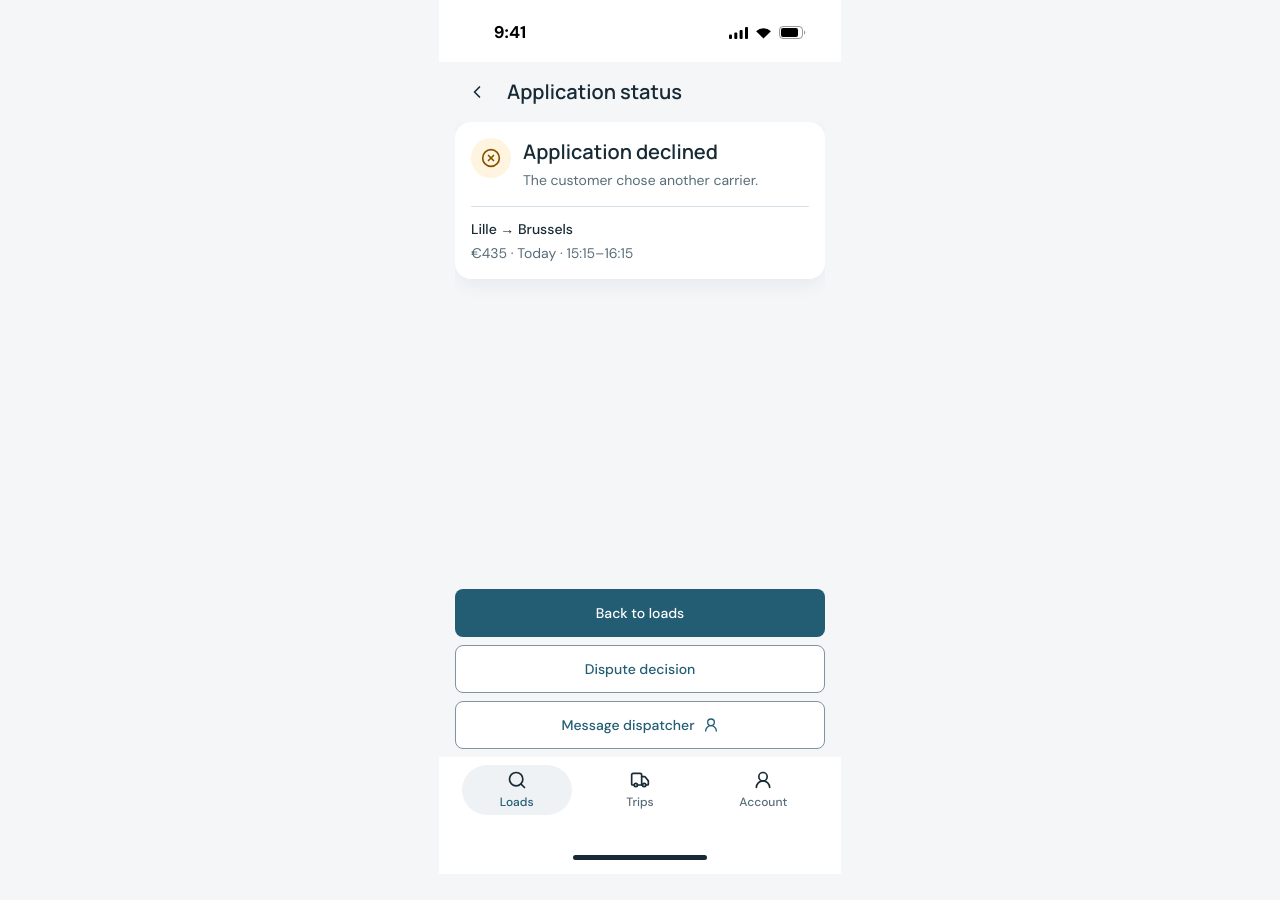
ApplicationTrackerView notices › sends a dispute through the sheet
Click the button "Dispute decision".
click(640, 669)  # box [455,645,825,693]
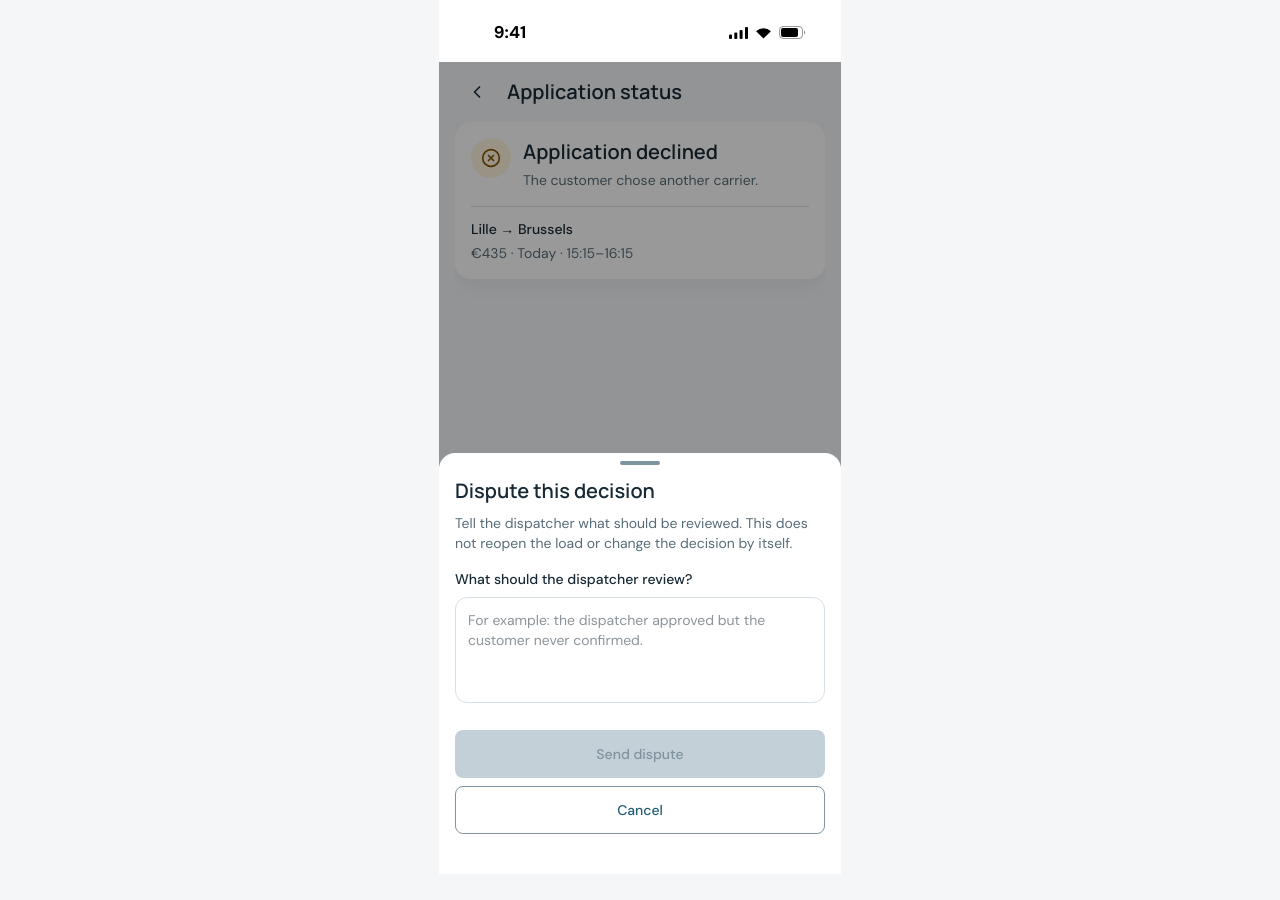
Check: the dialog named "Dispute decision" is shown, box [439,453,841,874]
Replace the text in the text box labelled "What should the dispatcher review?" with "The customer approved late." at (640,650), box [455,597,825,703]
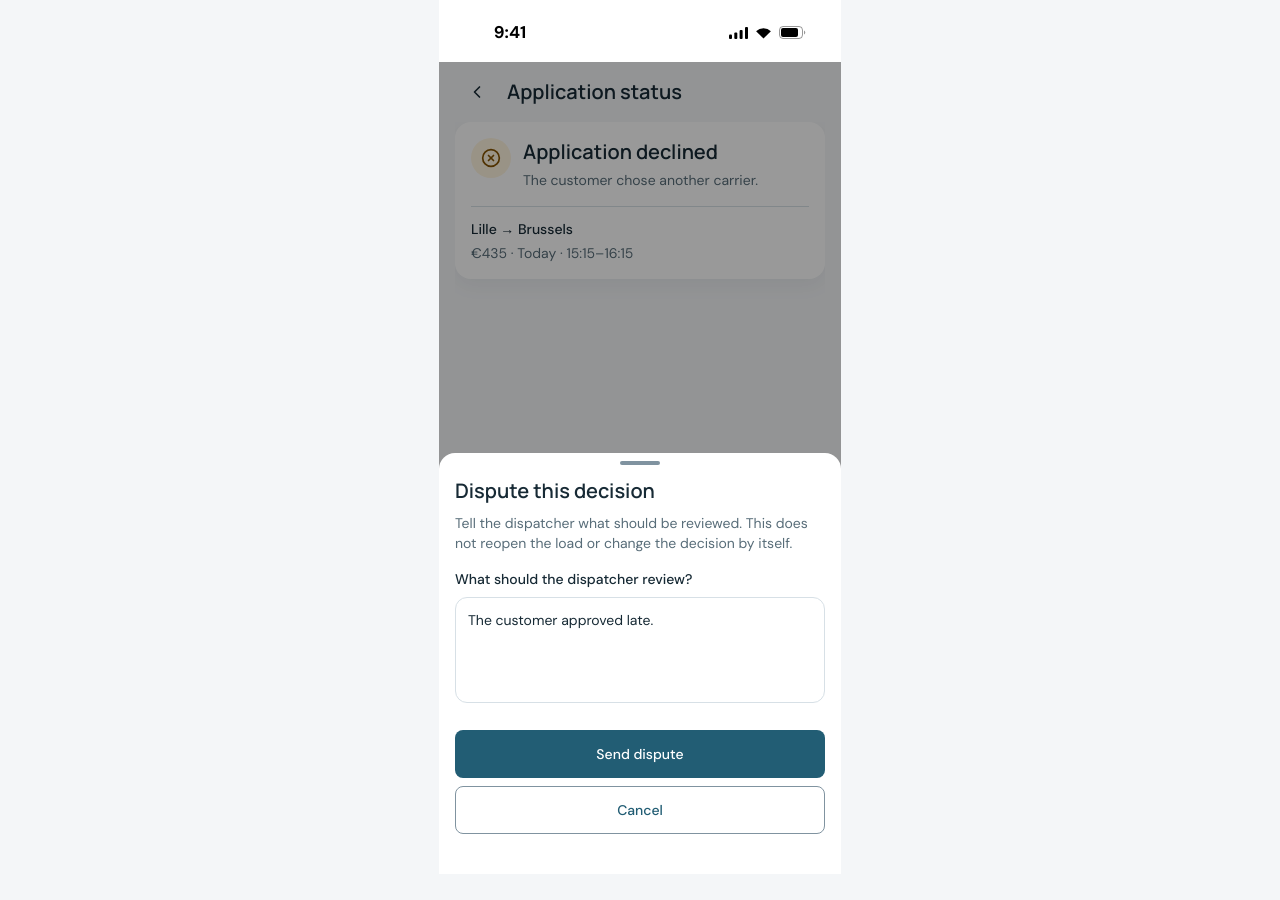
Click the button "Send dispute".
click(640, 754)  # box [455,730,825,778]
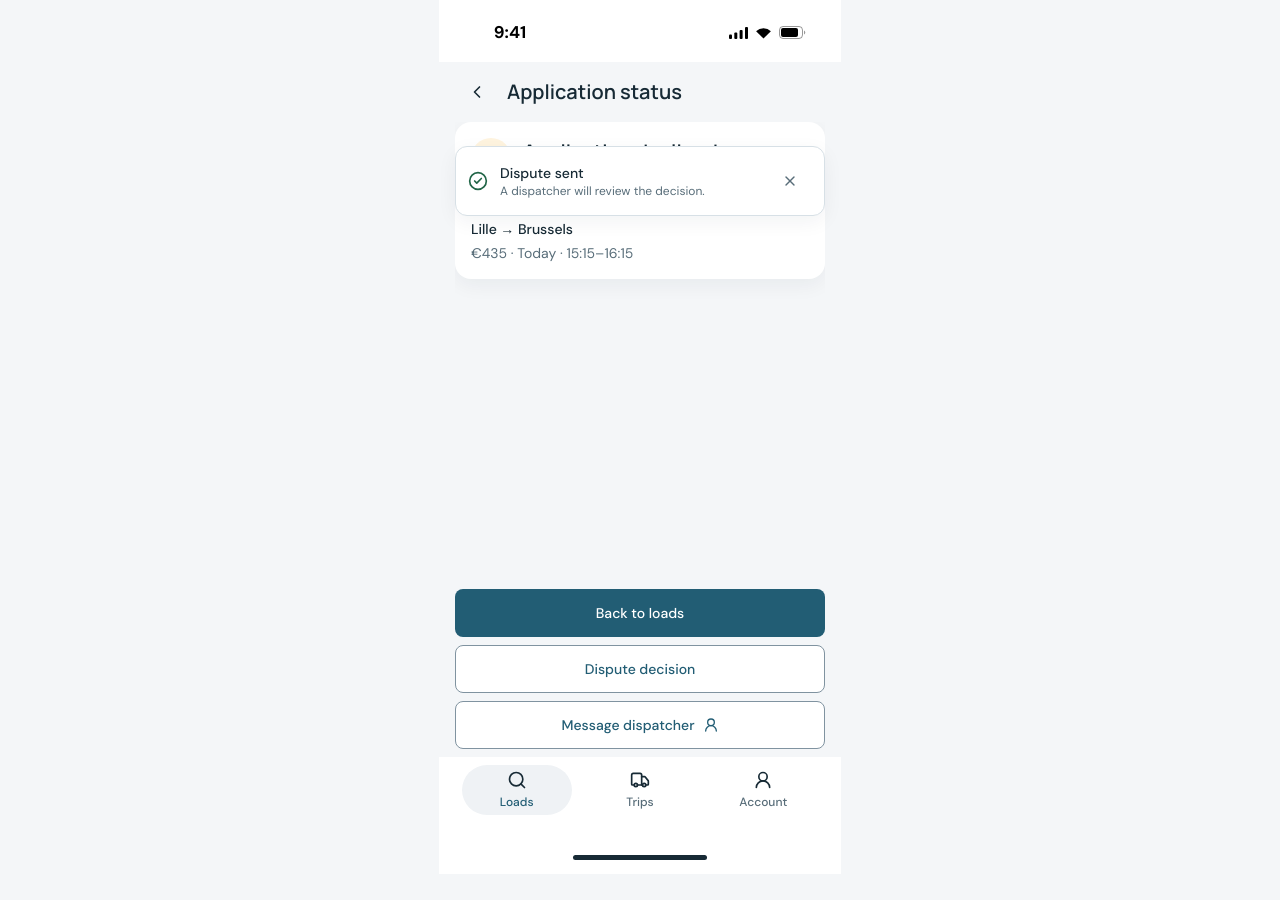
Check: the text "Dispute sent" is shown, box [500,164,584,182]
